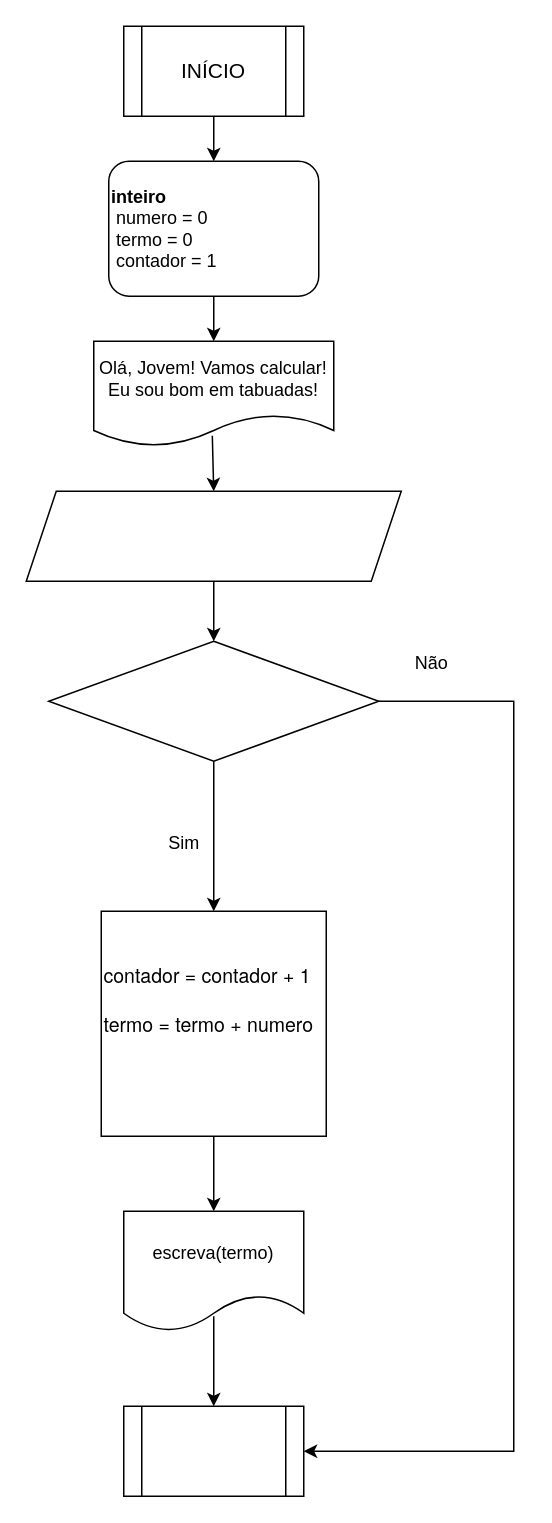
This 552x1523 diagram has some shape labels left out. Here are the shapes that lost their labels. From the top down, the centre of each, then its label:
At (213,535): "Digite o número que deseja tabular: (numero)".
At (213,700): "(contador <= 10 ) ?".
At (213,1450): "FIM".
